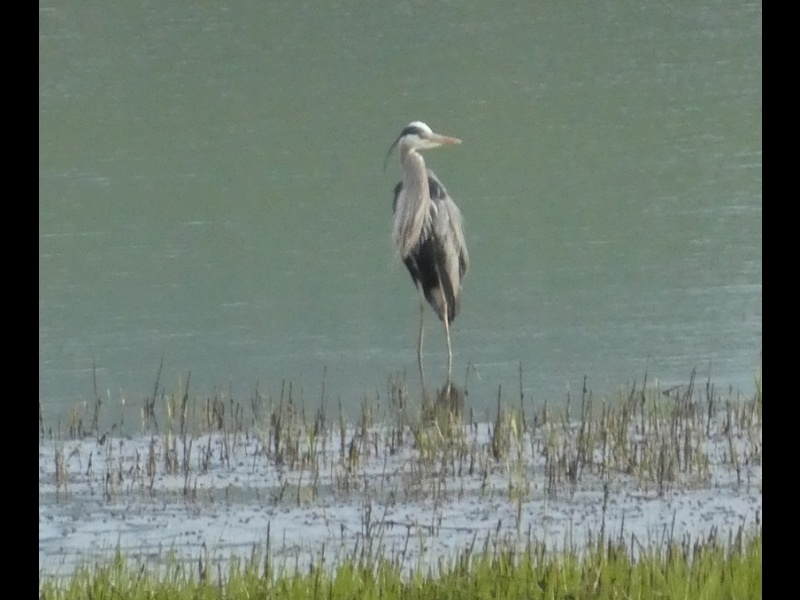heron: (378, 117, 472, 372)
